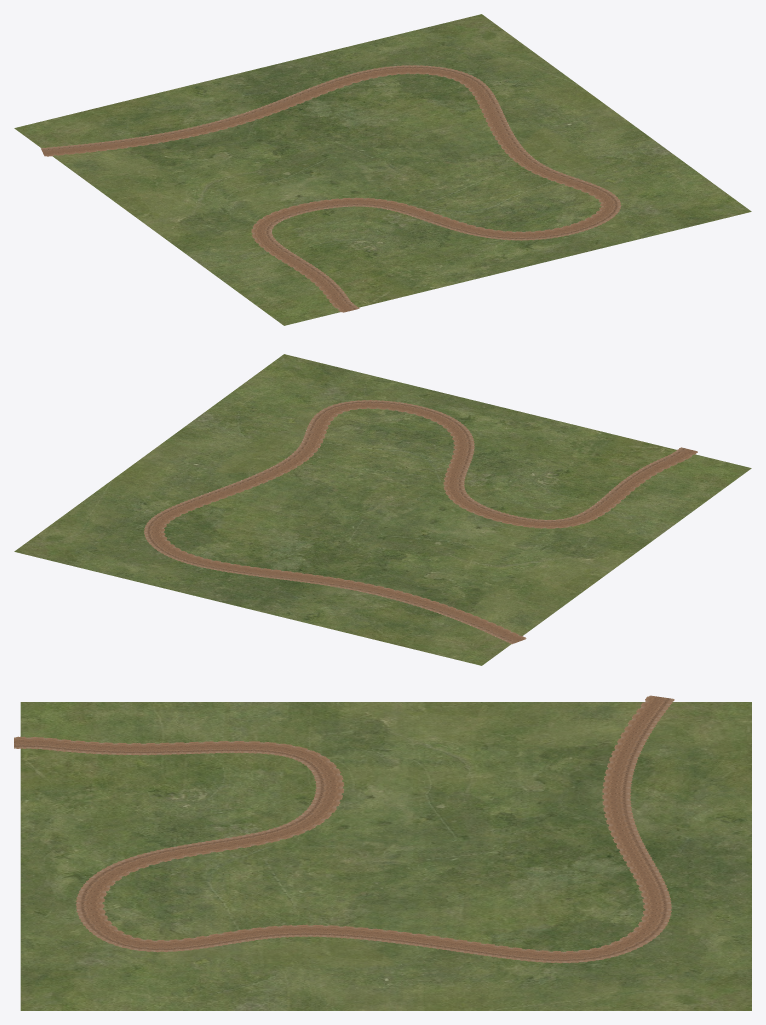
The model's file is map.fbx.
3 views of the same model, one above another, from view 1: azimuth 30°, elevation 25°; view 2: azimuth 150°, elevation 25°; view 3: azimuth 270°, elevation 25° (orthographic). The views are drawn at different scales.
Parts seen in each view (by area): view 1: Plane, Plane.001; view 2: Plane, Plane.001; view 3: Plane, Plane.001.
Boxes of the visible parts, <box> form: Plane: <box>14,14,751,325</box>; Plane.001: <box>41,65,621,312</box>; Plane: <box>14,354,751,665</box>; Plane.001: <box>144,400,697,644</box>; Plane: <box>20,702,751,1010</box>; Plane.001: <box>14,695,674,963</box>.
Bounding box in the file's own units: 20396 × 48.2 × 20185.
Materials: 2 (2 with a texture image).
